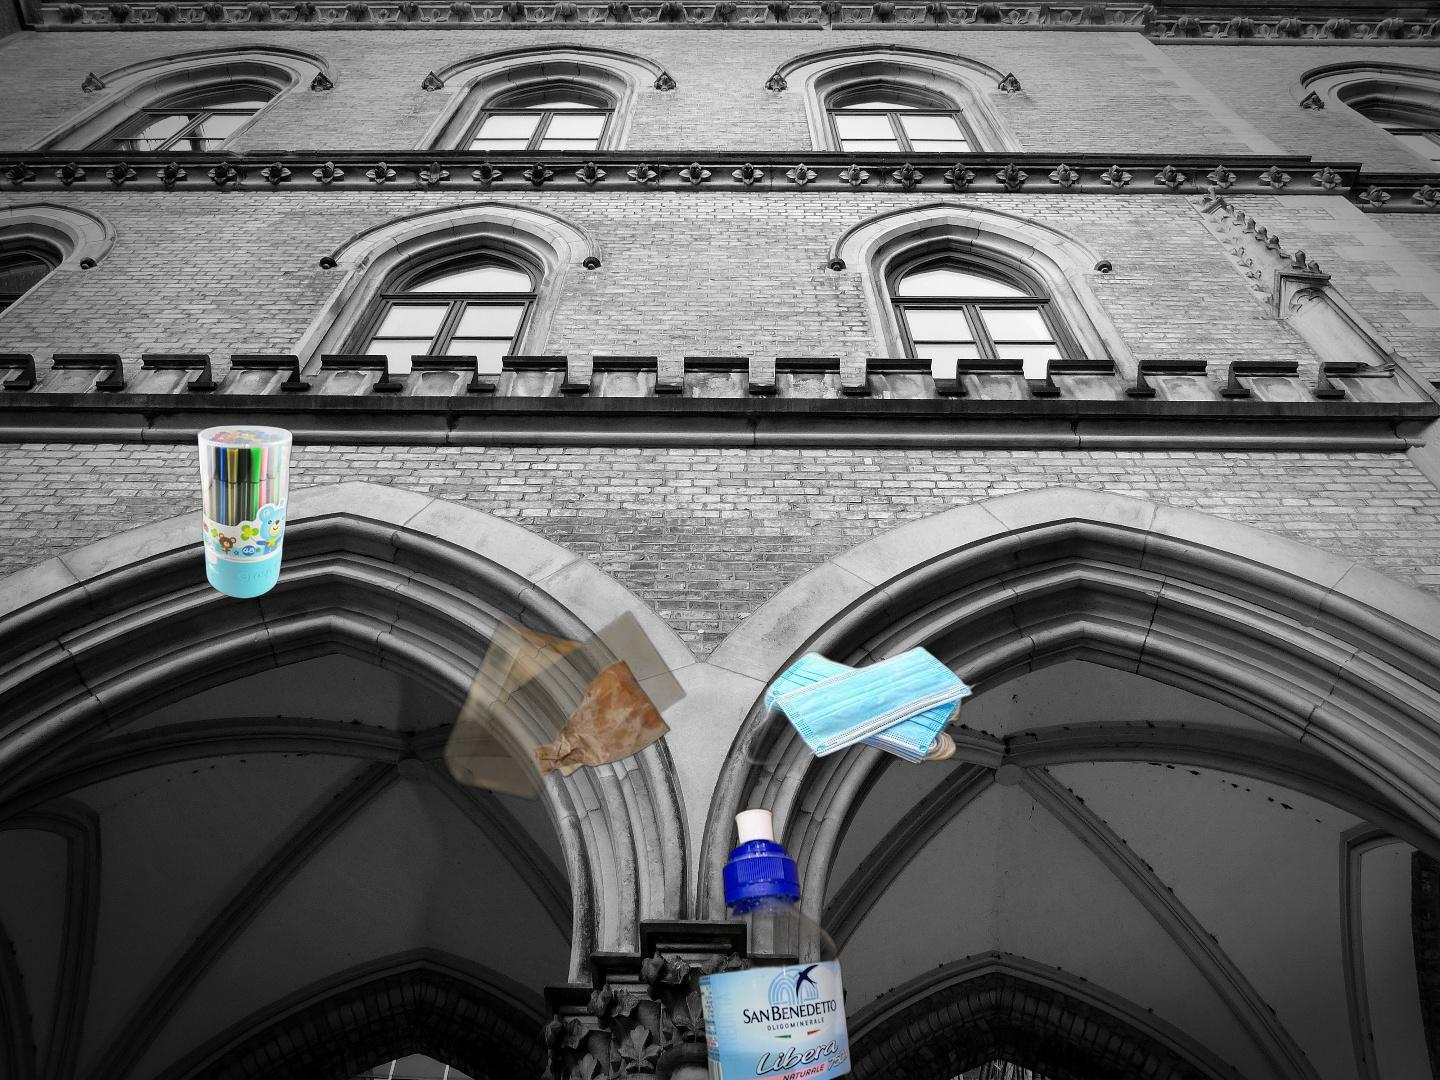paper-bag: (418, 556, 691, 809)
penholder: (152, 422, 296, 611)
plastic-bottles: (695, 805, 855, 1080)
trash: (738, 643, 986, 776)
